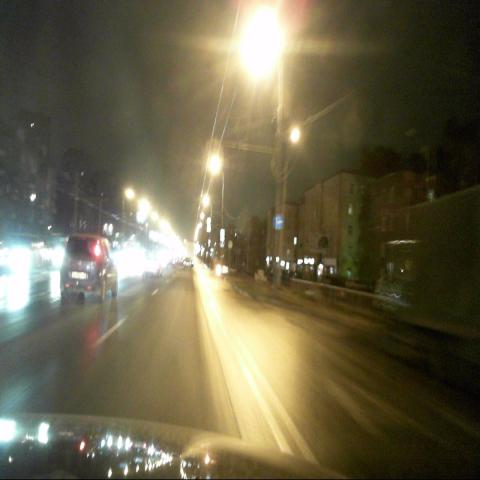4_1_4: (273, 213, 281, 229)
